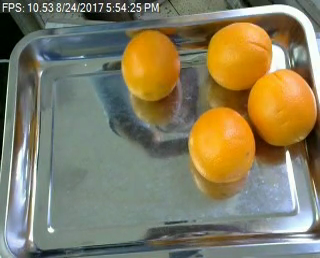Orange: (186, 106, 255, 184), (248, 68, 316, 147), (205, 21, 272, 90), (122, 28, 180, 100)
